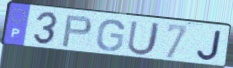3: (31, 11, 60, 48)
7: (165, 22, 191, 60)
G: (95, 18, 127, 53)
J: (196, 29, 223, 61)
P: (60, 15, 94, 49)
U: (125, 19, 162, 57)
